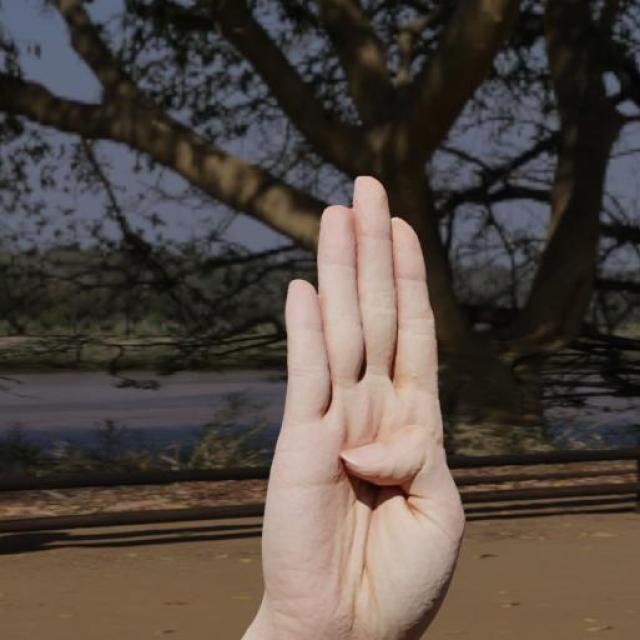B: (258, 166, 469, 632)
